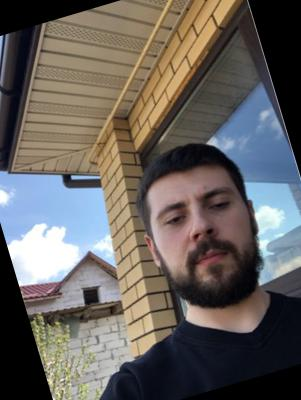without_mask: (145, 174, 272, 320)
